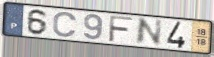4: (167, 21, 187, 49)
6: (27, 8, 49, 36)
9: (82, 13, 105, 42)
C: (52, 11, 79, 39)
F: (107, 14, 135, 44)
N: (133, 17, 164, 47)
